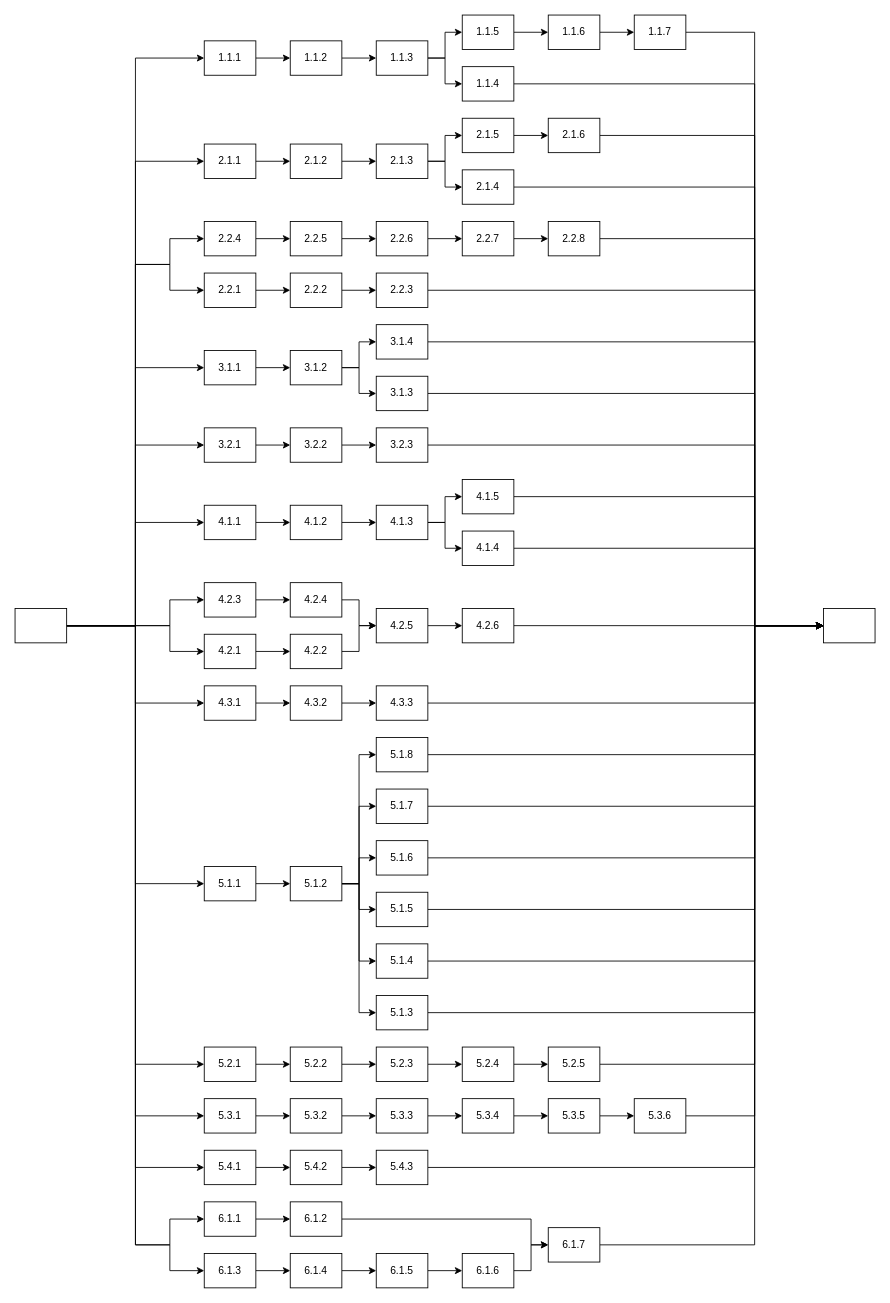
Some shapes in this 890 by 1303 pixel diagram are drawn without their labels. The box of each missing label's shape, as (x1, y1, x2, y2) in pixels:
Finish: (823, 608, 875, 643)
Start: (14, 608, 67, 643)
